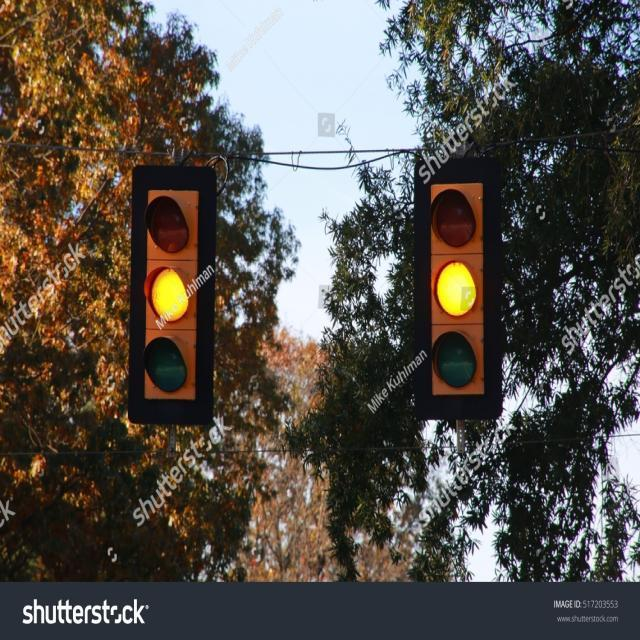yellow_light: (412, 156, 501, 419), (127, 165, 216, 424)
